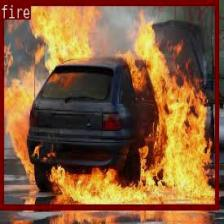fire: (0, 0, 217, 208)
